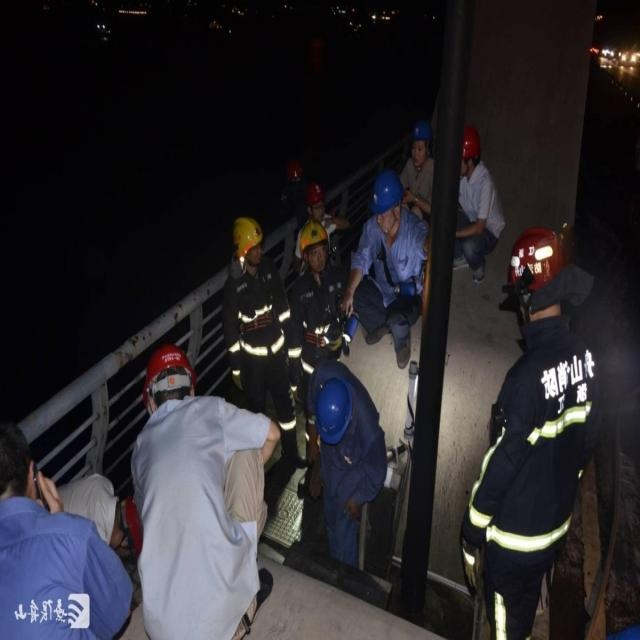Con_Casco: (369, 171, 404, 232)
Con_Chaleco: (477, 335, 599, 566)
Sin_Chaleco: (137, 395, 233, 633)
